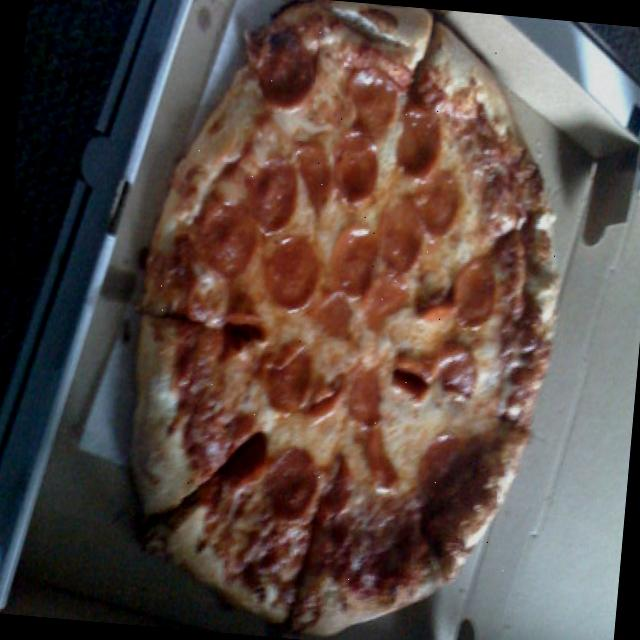pepperoni: (246, 19, 318, 118), (194, 202, 264, 273), (416, 426, 476, 508), (262, 233, 324, 312), (256, 338, 316, 419), (342, 61, 402, 140), (245, 156, 298, 238), (391, 100, 444, 181), (260, 447, 318, 519), (448, 256, 498, 336), (216, 428, 272, 498), (326, 222, 380, 292), (302, 286, 361, 350), (360, 414, 405, 494), (378, 195, 423, 274), (336, 358, 386, 429), (290, 140, 332, 222), (334, 133, 381, 203), (180, 264, 229, 330), (432, 342, 483, 404), (416, 172, 462, 240), (359, 272, 407, 336), (302, 371, 352, 429), (389, 346, 437, 404), (416, 296, 456, 332)
pizza: (129, 5, 558, 634)
